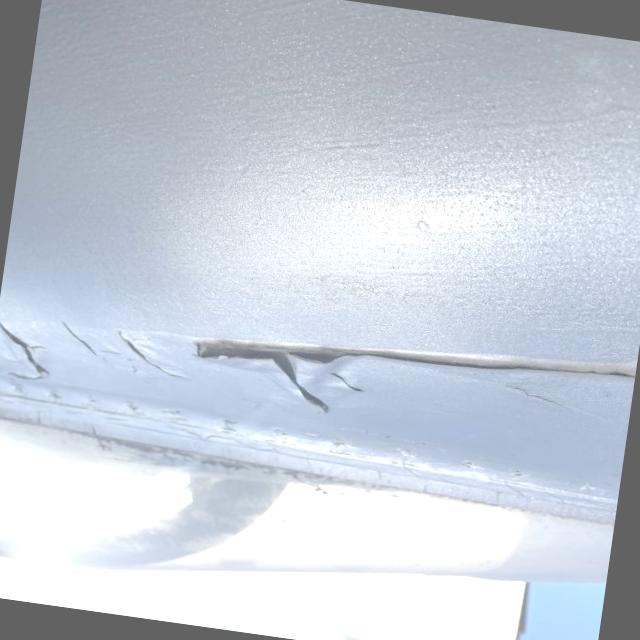crack: (194, 338, 637, 413), (118, 330, 187, 379), (476, 378, 566, 414), (0, 320, 49, 380), (319, 370, 376, 399), (61, 321, 98, 355)
